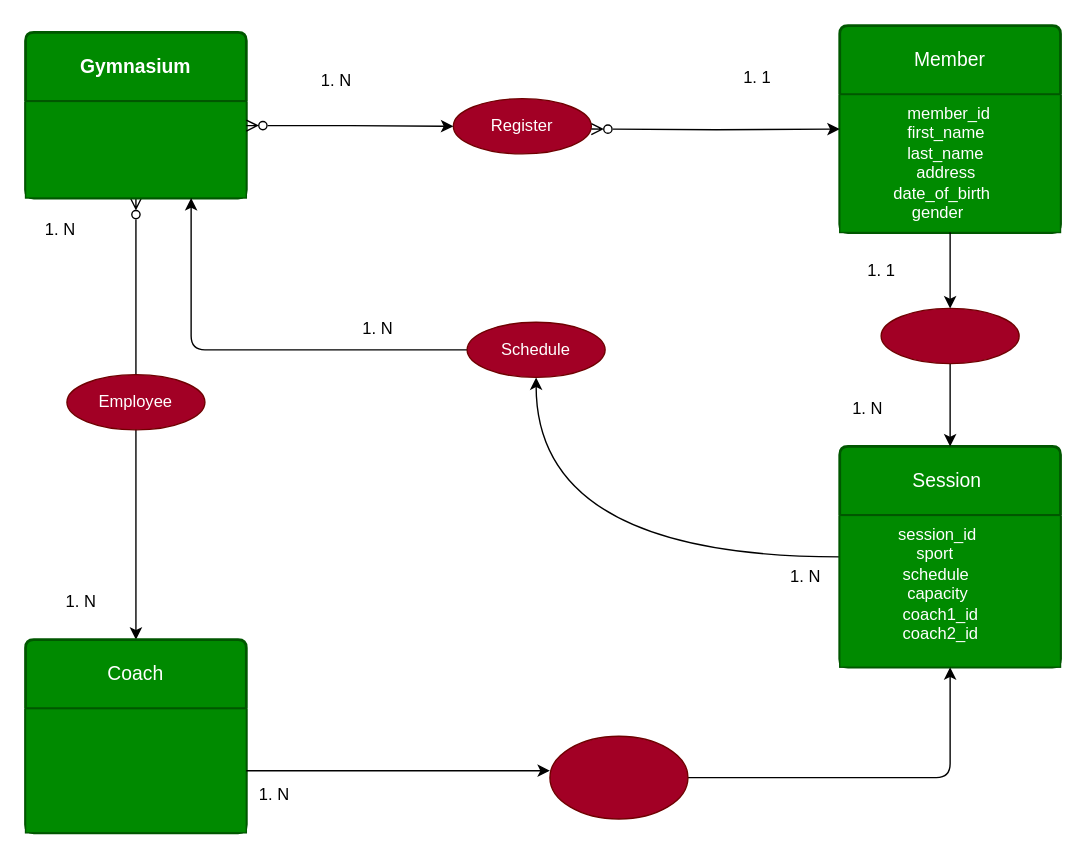
The diagram is 1085 pixels wide and 857 high, and some of its shapes have lost their labels. The box of each missing label's shape, as (x1, y1, x2, y2) in pixels:
coach_id first_name last_name age speciality: (24, 707, 246, 833)
gym_id name address phone_number: (24, 100, 246, 198)
In Charge of session: (549, 735, 688, 819)
Manage: (880, 307, 1019, 364)
